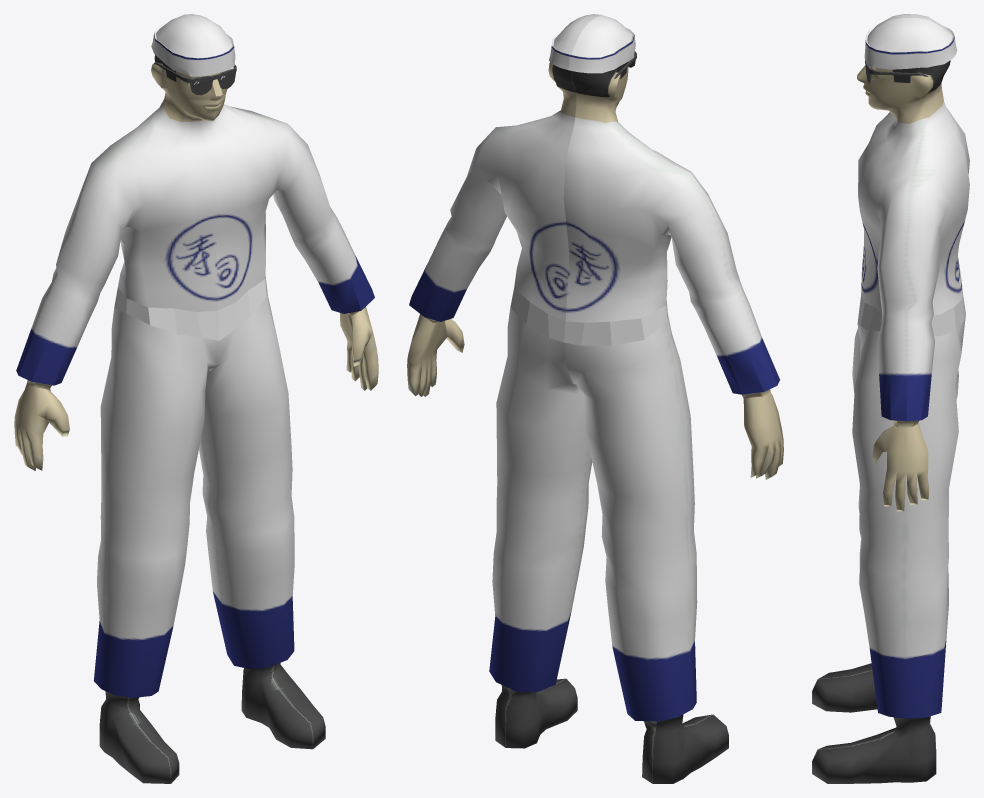
The model's file is desi.fbx.
3 renders of one model, left to right at view 1: azimuth 30°, elevation 25°; view 2: azimuth 150°, elevation 25°; view 3: azimuth 270°, elevation 25°, orthographic. The views are drawn at different scales.
Parts seen in each view (by area): view 1: polySurface11; view 2: polySurface11; view 3: polySurface11.
Boxes of the visible parts, x1=… form: polySurface11: x1=14, y1=14, x2=378, y2=783; polySurface11: x1=407, y1=14, x2=783, y2=783; polySurface11: x1=812, y1=14, x2=969, y2=783.
Bounding box in the file's own units: 65.79 × 127 × 25.12.
